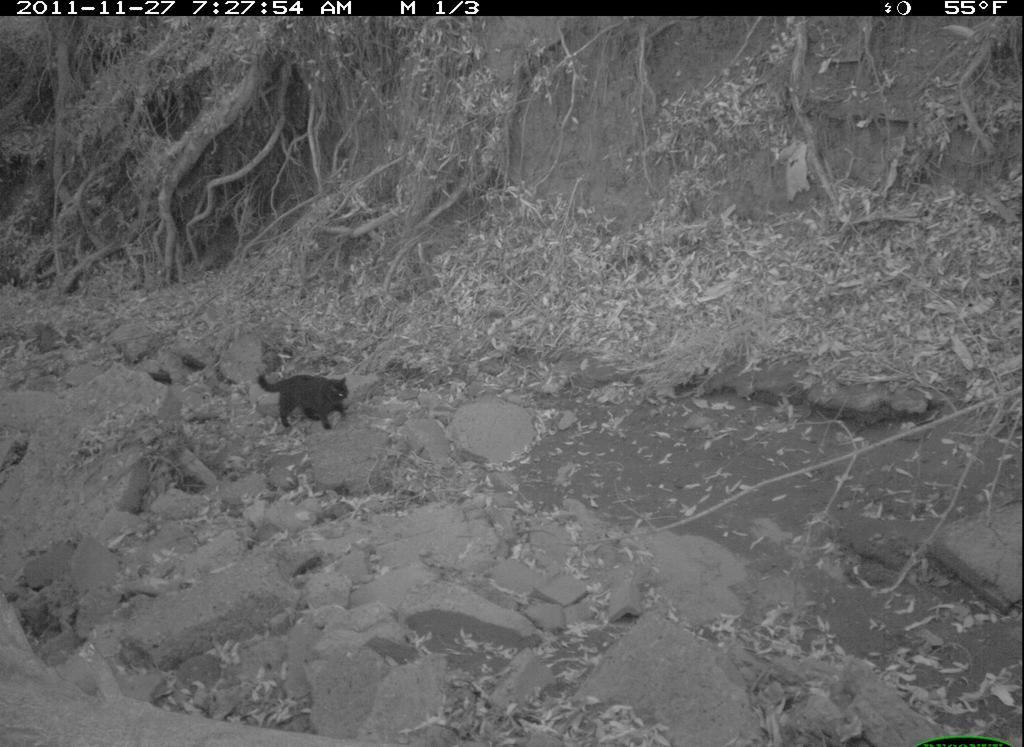cat: (255, 363, 361, 438)
